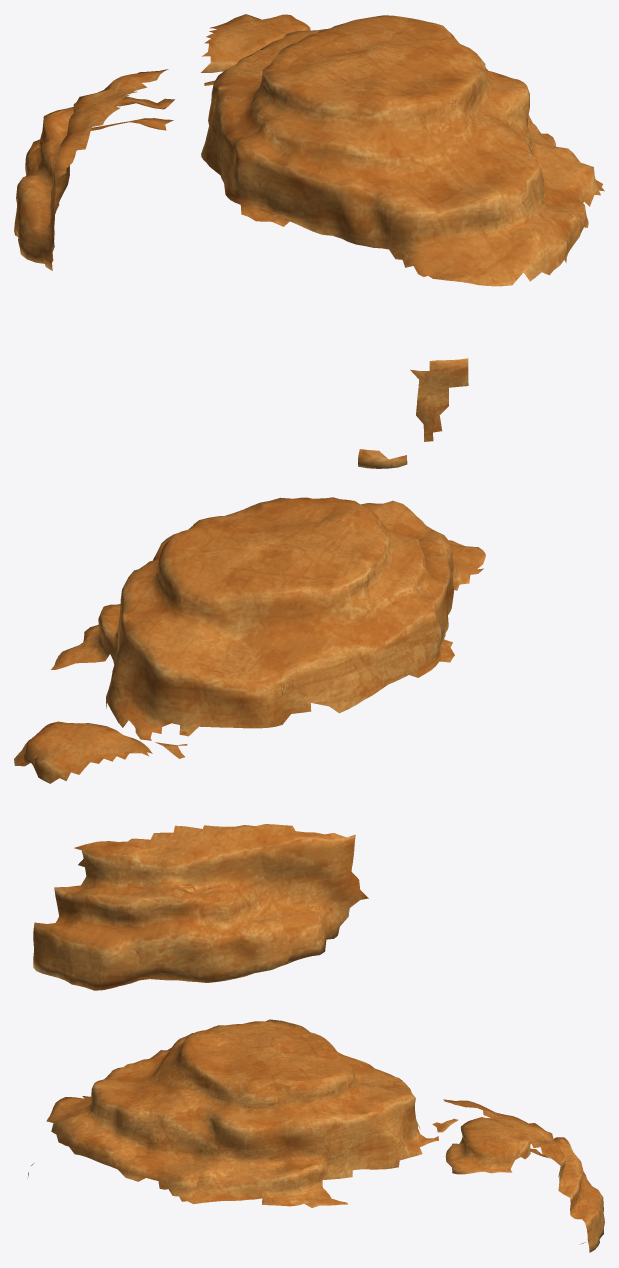
File: scene-small-cut-2.glb
3 renders of one model, top to bottom at view 1: azimuth 30°, elevation 25°; view 2: azimuth 150°, elevation 25°; view 3: azimuth 270°, elevation 25°, orthographic. The views are drawn at different scales.
Parts seen in each view (by area): view 1: P11DesertCliff-High; view 2: P11DesertCliff-High; view 3: P11DesertCliff-High.
Part boxes in pixels (x1,y1,x2,y2): P11DesertCliff-High: (14,14,604,468); P11DesertCliff-High: (14,497,485,990); P11DesertCliff-High: (27,1019,604,1252).
Size of the model in its own units: 1132 by 811 by 2066.
1 material, 1 textured.
